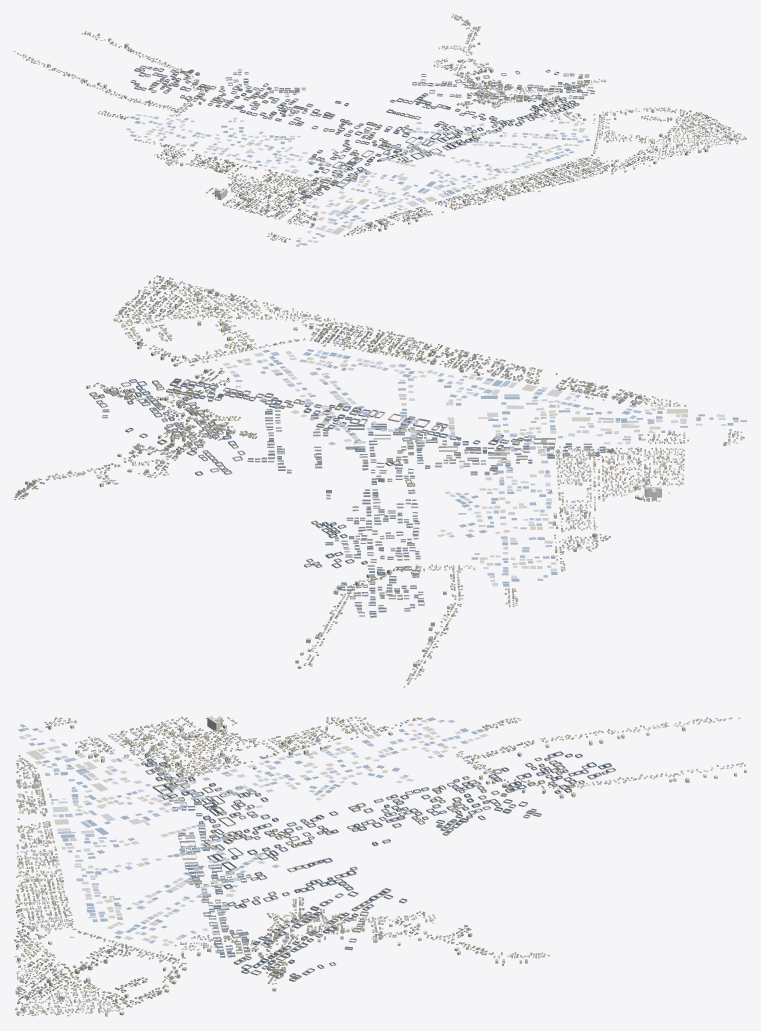
The picture shows the model from 3 angles, top to bottom: view 1: azimuth 30°, elevation 25°; view 2: azimuth 150°, elevation 25°; view 3: azimuth 270°, elevation 25°; orthographic projection. The views are drawn at different scales.
Visible parts, largest first — view 1: house, factory, roof_zinc, apartment, roof_flat; view 2: house, roof_zinc, factory, apartment, roof_flat; view 3: house, factory, roof_zinc, apartment, roof_flat.
Part boxes in pixels (<box>): house: <box>14,14,746,241</box>; factory: <box>130,65,594,199</box>; roof_zinc: <box>19,15,741,246</box>; apartment: <box>47,19,737,242</box>; roof_flat: <box>48,20,737,240</box>; house: <box>14,275,744,687</box>; roof_zinc: <box>14,276,746,687</box>; factory: <box>89,378,613,617</box>; apartment: <box>17,281,734,668</box>; roof_flat: <box>18,281,734,666</box>; house: <box>15,716,745,1016</box>; factory: <box>145,751,615,981</box>; roof_zinc: <box>15,717,743,1016</box>; apartment: <box>14,716,746,1016</box>; roof_flat: <box>14,716,746,1015</box>.
Size of the model in its own units: 1.4e+08 by 1890126 by 1.45e+08.
